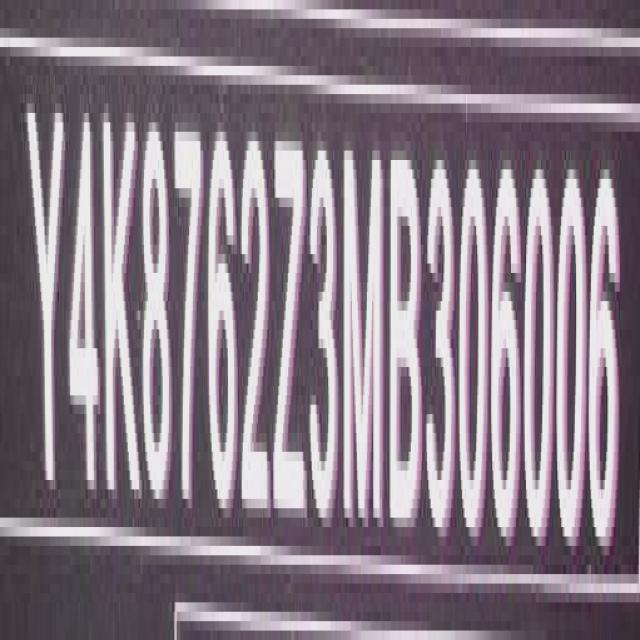0: (554, 162, 586, 556), (523, 157, 553, 548), (461, 151, 489, 545)
2: (240, 127, 269, 529)
3: (308, 139, 340, 532), (427, 150, 456, 544)
4: (66, 94, 102, 506)
6: (207, 112, 240, 533), (592, 160, 624, 558), (492, 153, 523, 547)
7: (177, 112, 206, 522)
8: (141, 106, 175, 514)
B: (390, 145, 425, 538)
K: (103, 104, 139, 513)
M: (345, 136, 385, 532)
Y: (28, 89, 66, 508)
Z: (273, 128, 304, 530)
